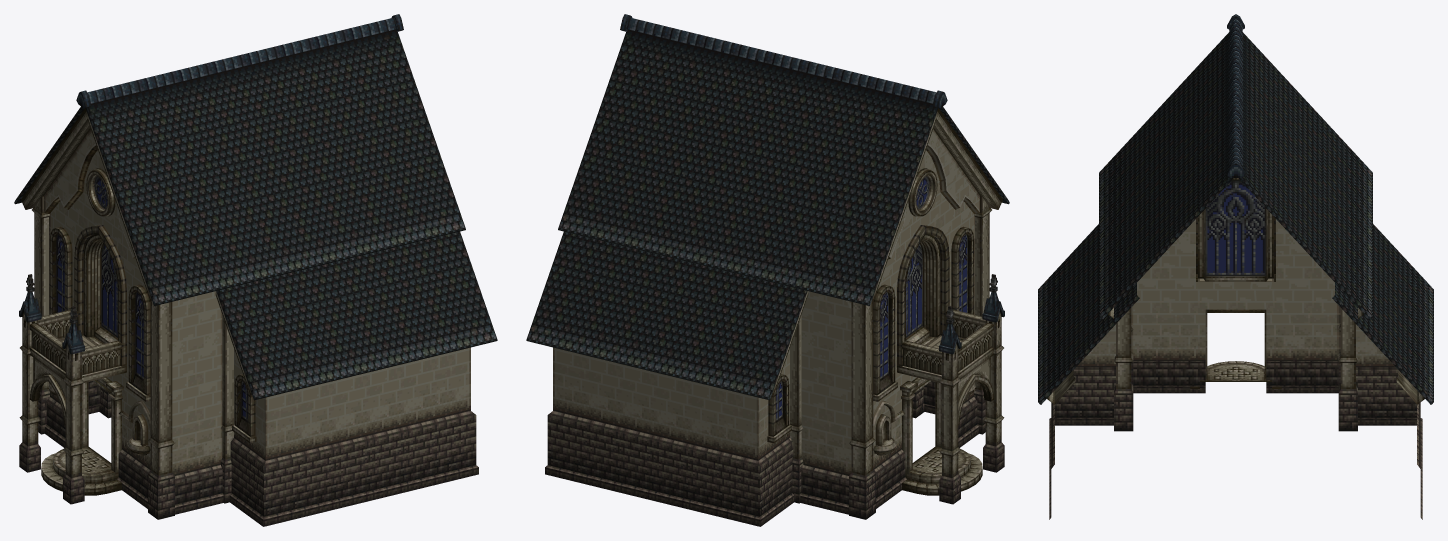
File: EnvBdgMD_Church_Mount_A_Outdoor.FBX
3 views of the same model, side by side, from view 1: azimuth 30°, elevation 25°; view 2: azimuth 150°, elevation 25°; view 3: azimuth 270°, elevation 25° (orthographic). The views are drawn at different scales.
Parts seen in each view (by area): view 1: EnvBdgMD_Church_Mount_A_Outdoor; view 2: EnvBdgMD_Church_Mount_A_Outdoor; view 3: EnvBdgMD_Church_Mount_A_Outdoor.
Boxes of the visible parts, x1,y1,x2,y2 form: EnvBdgMD_Church_Mount_A_Outdoor: [14, 14, 497, 526]; EnvBdgMD_Church_Mount_A_Outdoor: [526, 14, 1009, 526]; EnvBdgMD_Church_Mount_A_Outdoor: [1038, 14, 1433, 519].
Size of the model in its own units: 1035 by 1076 by 1040.
